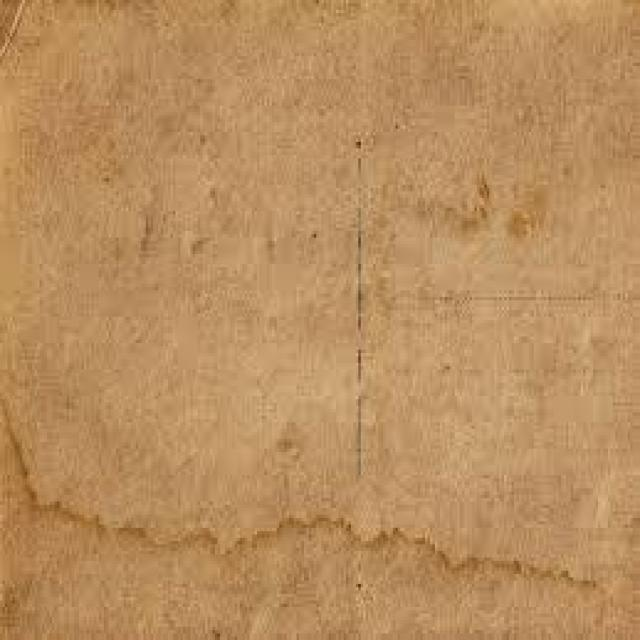PaperCardboard: (0, 1, 640, 640)
